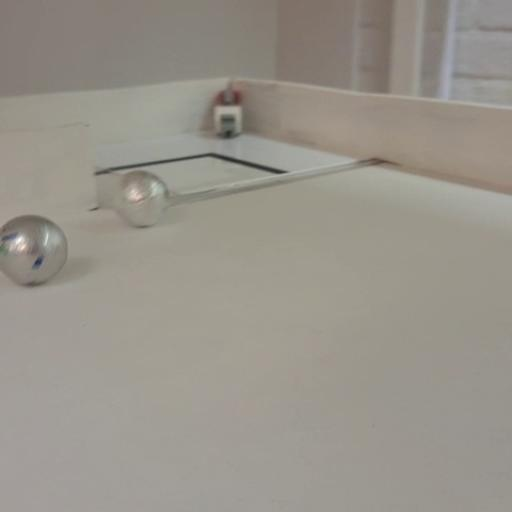alive: (0, 212, 69, 287), (111, 168, 173, 229)
